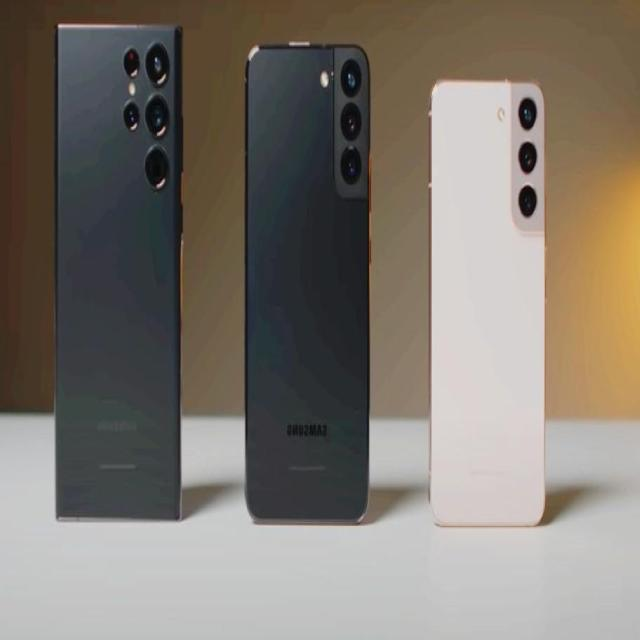mobile: (56, 24, 184, 524), (244, 42, 372, 524), (430, 79, 546, 529)
